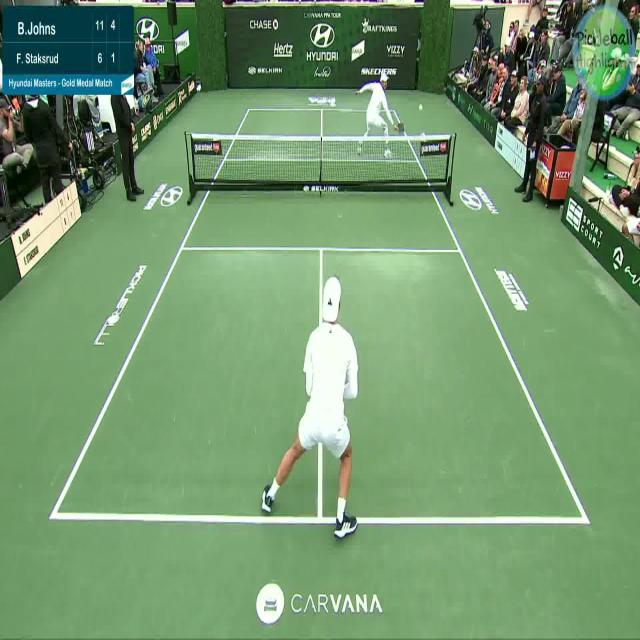ball: (418, 104, 422, 111)
